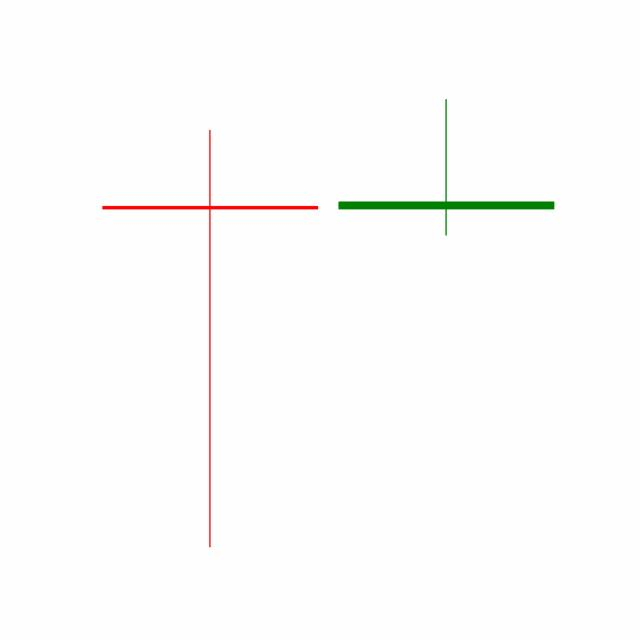Gravestone Doji: (327, 97, 565, 238)
